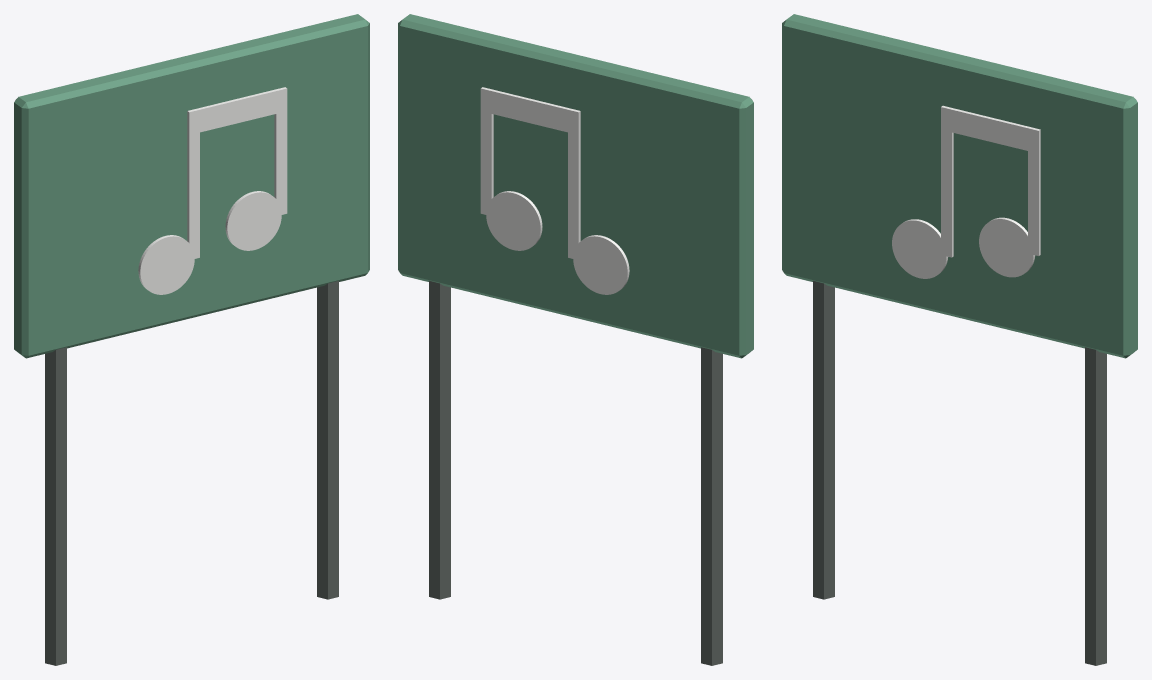
The model's file is lawn_sign.glb.
3 renders of one model, left to right at view 1: azimuth 30°, elevation 25°; view 2: azimuth 150°, elevation 25°; view 3: azimuth 330°, elevation 25°, orthographic.
Visible parts, largest first — view 1: lawn_sign_bench_g, lawn_sign_iron, lawn_sign_paint_w; view 2: lawn_sign_bench_g, lawn_sign_iron, lawn_sign_paint_w; view 3: lawn_sign_bench_g, lawn_sign_iron, lawn_sign_paint_w.
Boxes of the visible parts, left/top/right/bottom form: lawn_sign_bench_g: left=14, top=14, right=369, bottom=358; lawn_sign_iron: left=45, top=281, right=338, bottom=665; lawn_sign_paint_w: left=138, top=87, right=287, bottom=294; lawn_sign_bench_g: left=398, top=14, right=753, bottom=358; lawn_sign_iron: left=429, top=281, right=722, bottom=665; lawn_sign_paint_w: left=480, top=87, right=629, bottom=294; lawn_sign_bench_g: left=782, top=14, right=1137, bottom=358; lawn_sign_iron: left=813, top=281, right=1106, bottom=665; lawn_sign_paint_w: left=892, top=105, right=1040, bottom=278.
Size of the model in its own units: 0.64 by 1 by 0.052.
